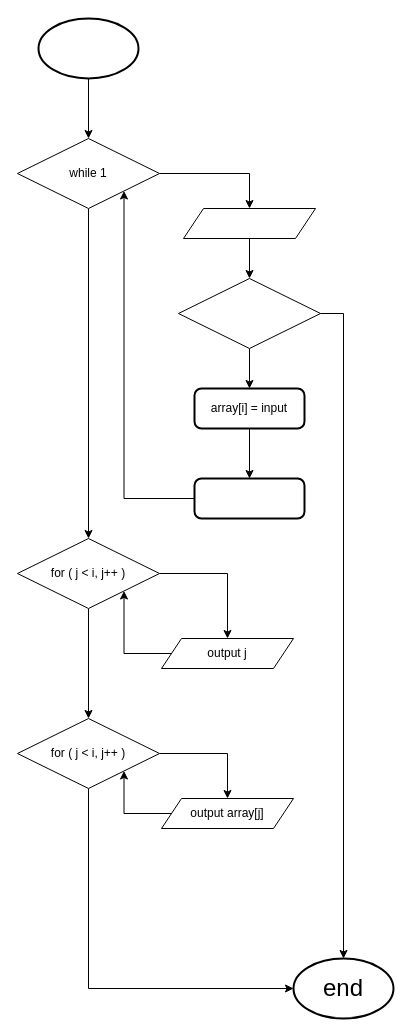
The diagram is 412 pixels wide and 1036 high, and some of its shapes have lost their labels. Each missing label, with the centre of its shape:
i++: [249,498]
if input == -1: [249,313]
input n: [249,223]
start: [88,48]
